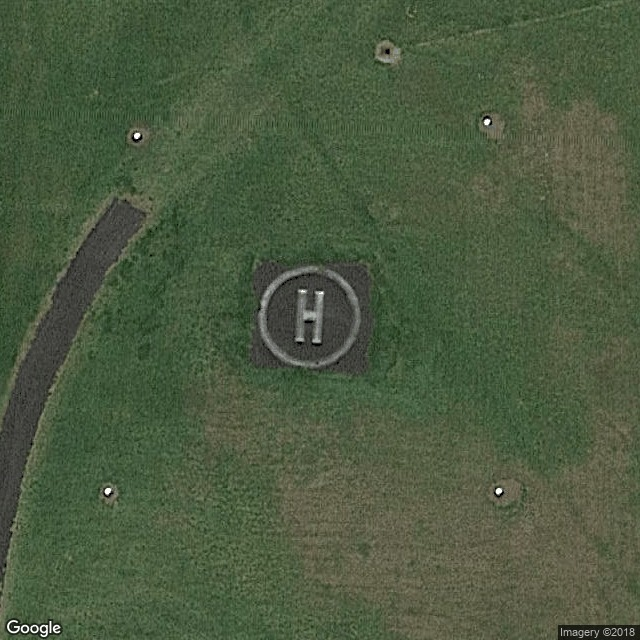heliport: (255, 256, 365, 371)
